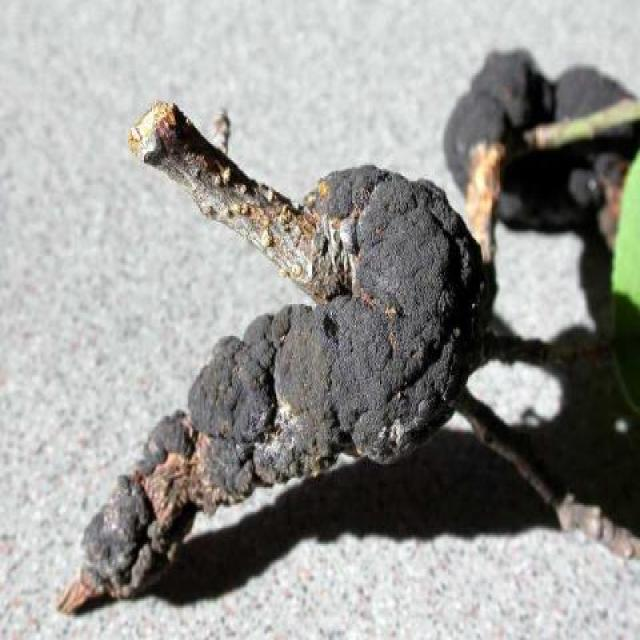Black_knot: (56, 98, 489, 613)
